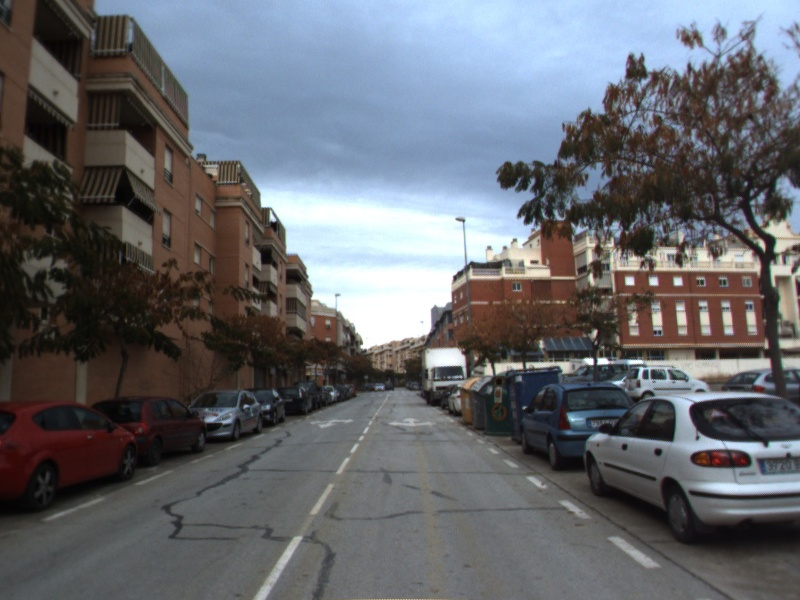STRAIGHT_LEFT_RIGHT: (386, 415, 439, 429)
